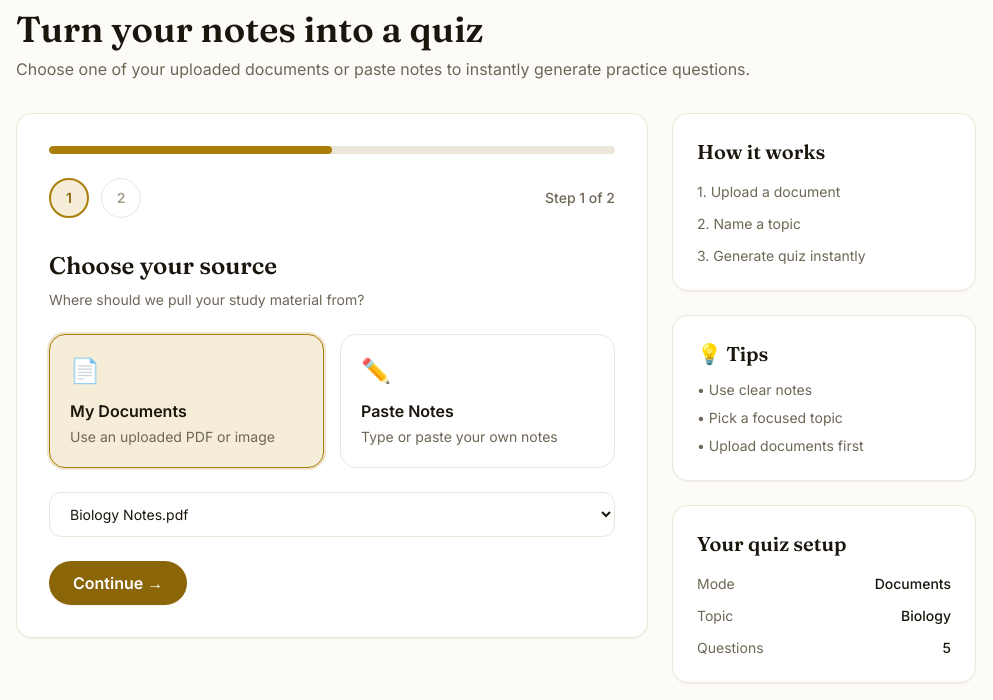
Test: QuizGenerator — Step 2: Configuration and generation › generate button shows loading state
The width and height of the screenshot is (993, 700).
Click the button "Continue →" at (118, 583), box [49,561,187,605]
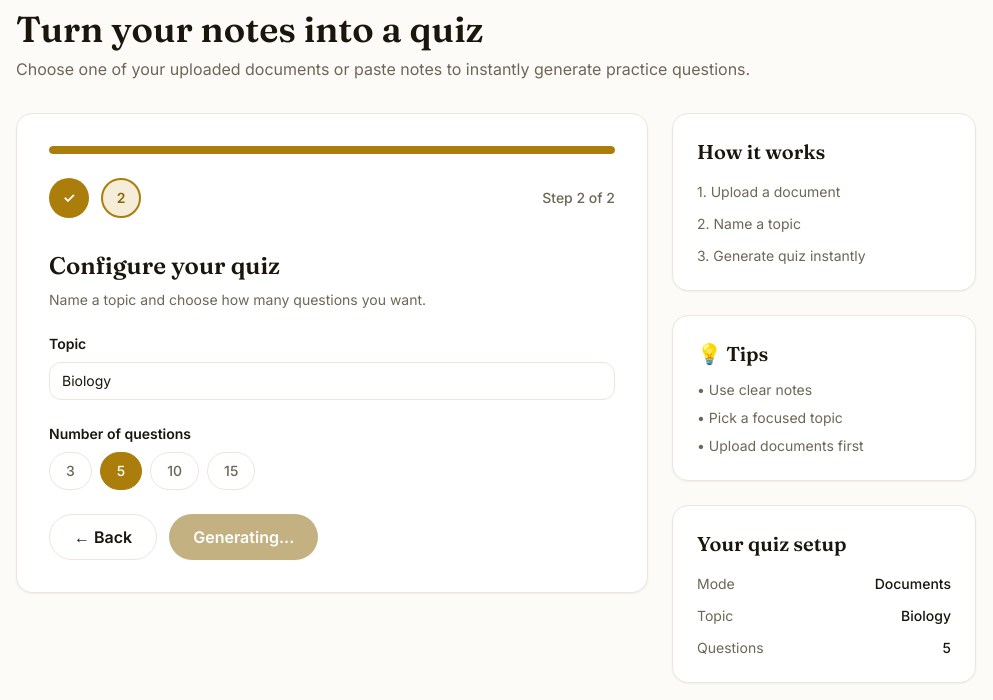
Check: the button "Generating..." is shown, box [169,514,318,560]
